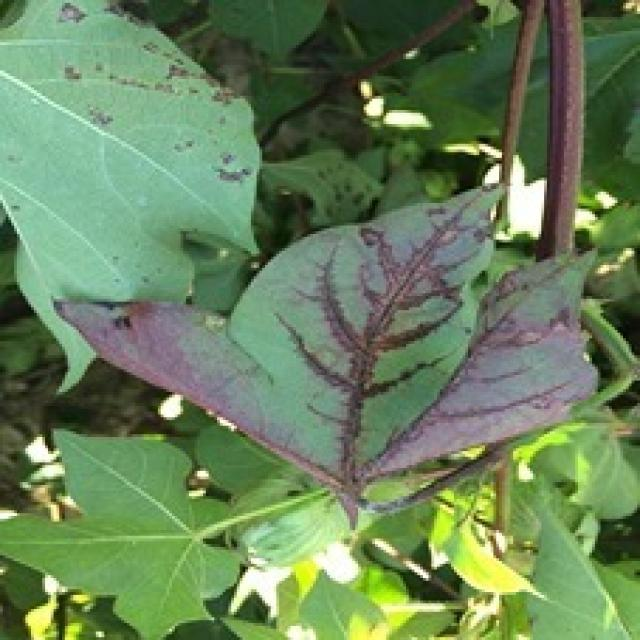Downy_Mildew: (39, 192, 598, 509), (42, 0, 257, 192)
